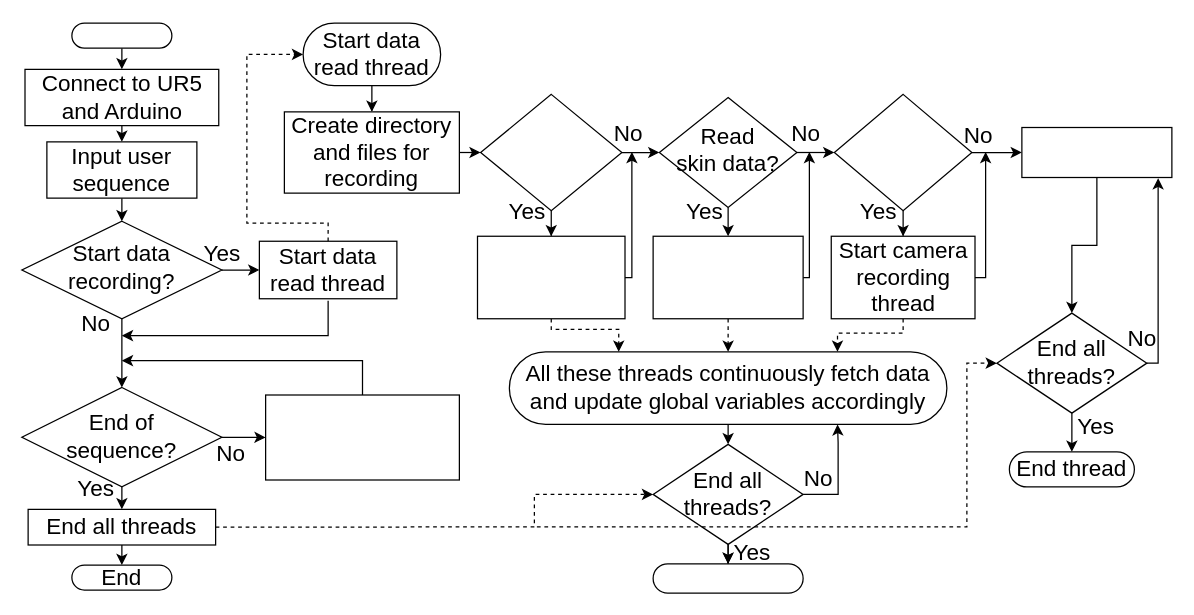
Some shapes in this 1194 by 615 pixel diagram are drawn without their labels. The shapes that lost their labels are listed below. From the top down, each one's centre as x and y in pixels, then its label:
At point (121, 35): "Start".
At point (550, 152): "Read UR5 pos?".
At point (902, 152): "Record camera?".
At point (1096, 152): "Write data to files".
At point (550, 277): "Start update UR5 position thread".
At point (727, 277): "Start update sensor data thread".
At point (361, 437): "Move UR5 or gripper to next state in sequence".
At point (727, 577): "End threads".
